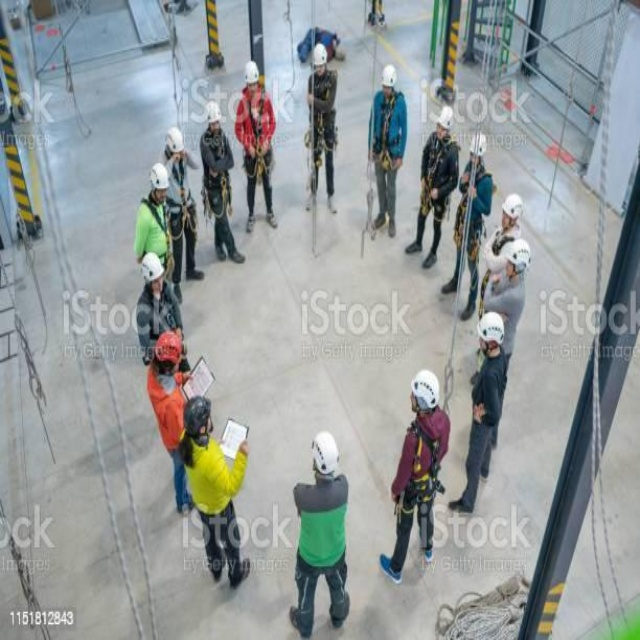Arnes_seguridad: (396, 412, 450, 510), (415, 127, 460, 220), (237, 82, 276, 182), (137, 190, 178, 280), (138, 284, 183, 362), (453, 156, 488, 248), (199, 127, 234, 215), (306, 65, 341, 152), (368, 91, 405, 173), (164, 147, 195, 232)
